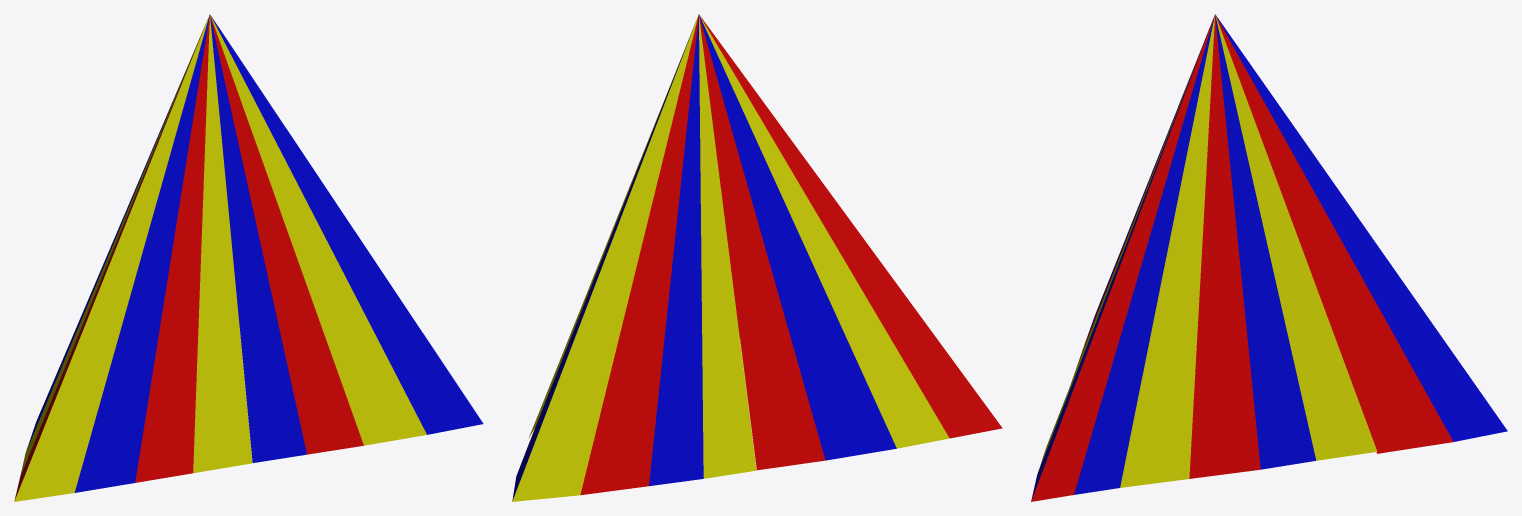
The model's file is Traingle.fbx.
3 renders of one model, left to right at view 1: azimuth 30°, elevation 25°; view 2: azimuth 150°, elevation 25°; view 3: azimuth 270°, elevation 25°, orthographic. The views are drawn at different scales.
Visible parts, largest first — view 1: Cone; view 2: Cone; view 3: Cone.
Part boxes in pixels (x1=…): Cone: x1=14, y1=14, x2=483, y2=501; Cone: x1=512, y1=14, x2=1002, y2=501; Cone: x1=1031, y1=14, x2=1507, y2=501.
Bounding box in the file's own units: 275 × 236 × 258.
